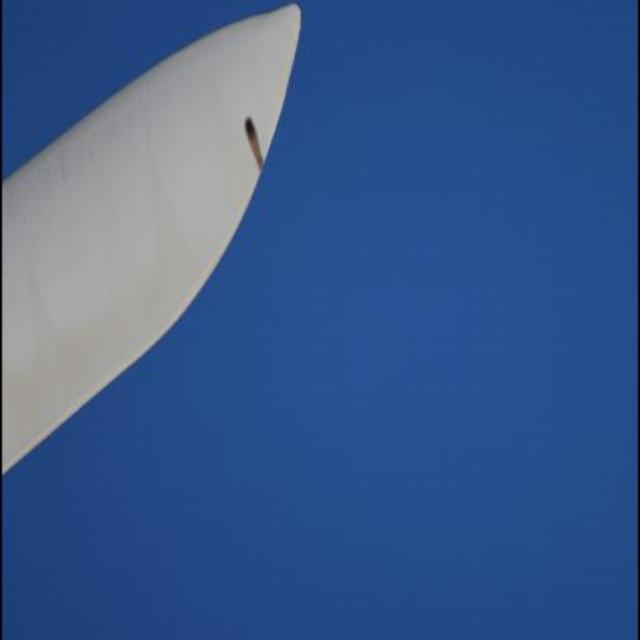Burn Mark: (243, 112, 268, 170)
